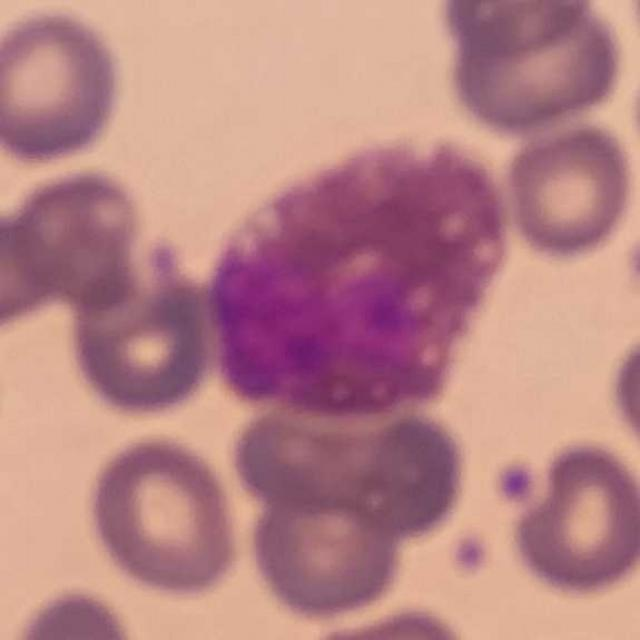Eosinophil: (190, 131, 508, 430)
Platelets: (487, 455, 541, 508), (446, 525, 492, 577), (623, 226, 640, 304)
RBC: (222, 375, 474, 539), (60, 237, 220, 425), (80, 429, 244, 603), (438, 0, 629, 137), (242, 472, 408, 623), (498, 435, 640, 602), (1, 161, 150, 313), (0, 2, 131, 170), (497, 117, 639, 265), (330, 406, 470, 546), (431, 0, 600, 61), (0, 190, 66, 345), (1, 581, 149, 640), (289, 601, 481, 640), (603, 320, 640, 478), (625, 36, 640, 199), (619, 0, 640, 71)
